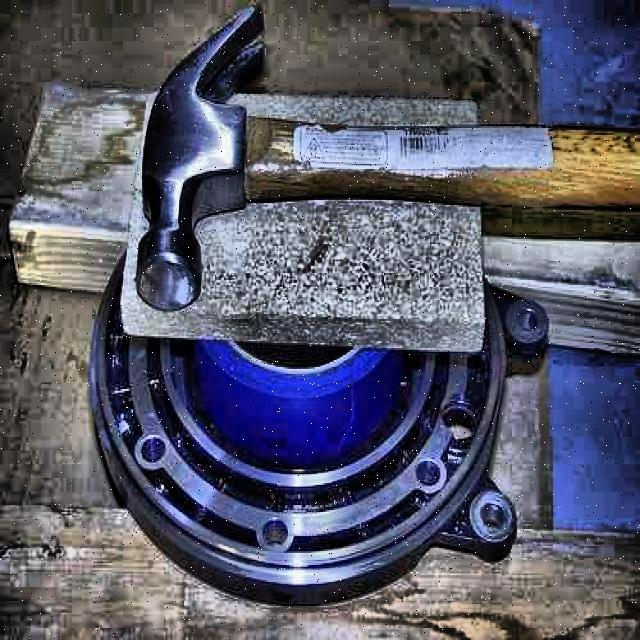hammer: (137, 4, 640, 316)
